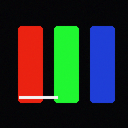3 line_h: (19, 96, 57, 98)
